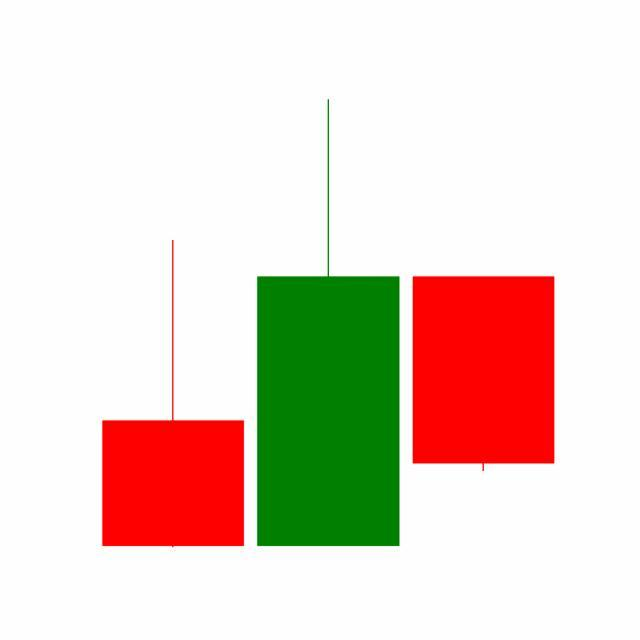Marubozu: (406, 274, 562, 474)
